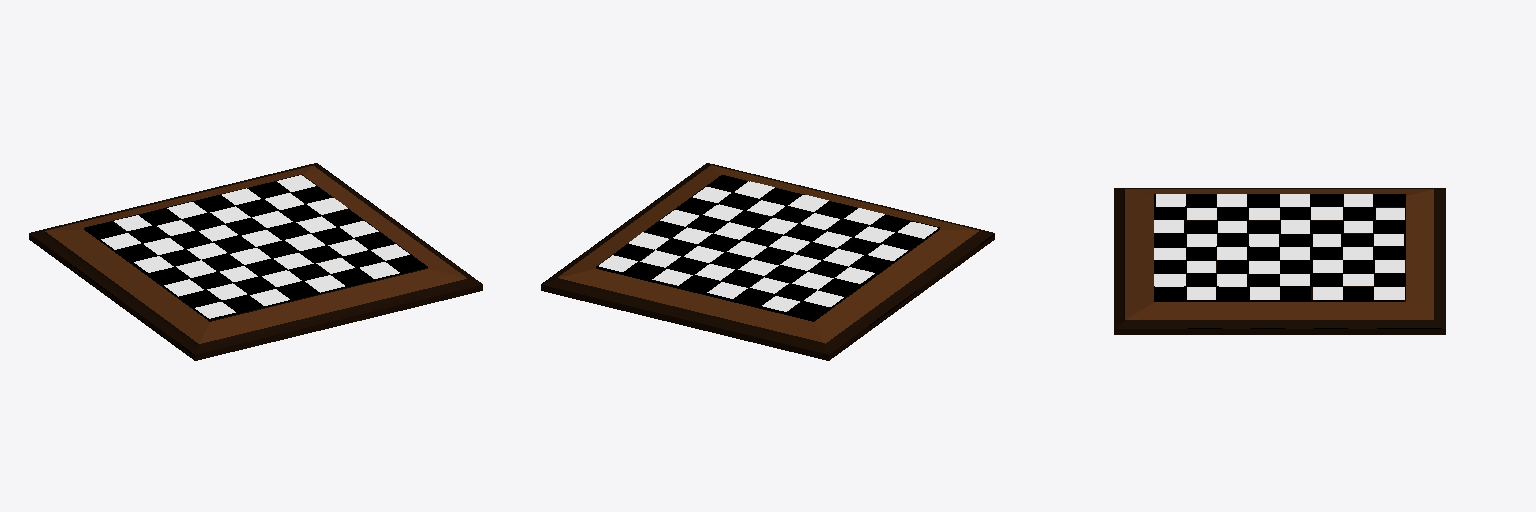
3 renders of one model, left to right at view 1: azimuth 30°, elevation 25°; view 2: azimuth 150°, elevation 25°; view 3: azimuth 270°, elevation 25°, orthographic.
Parts seen in each view (by area): view 1: Chess_Board_Cube; view 2: Chess_Board_Cube; view 3: Chess_Board_Cube.
Boxes of the visible parts, box(x1,y1,x2,y2) form: Chess_Board_Cube: box(29, 163, 482, 360); Chess_Board_Cube: box(541, 163, 994, 360); Chess_Board_Cube: box(1114, 188, 1445, 334).
Bounding box in the file's own units: 10.7 × 0.6431 × 10.7.
Materials: 1 (1 with a texture image).